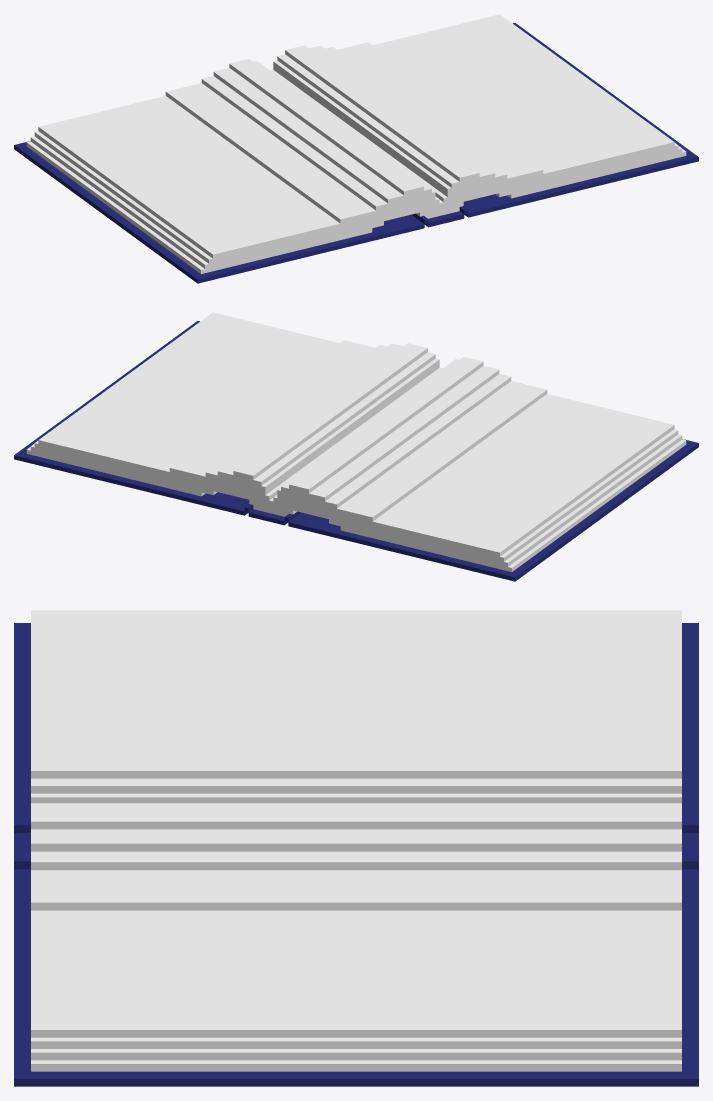
The model's file is Book1-2.fbx.
3 views of the same model, one above another, from view 1: azimuth 30°, elevation 25°; view 2: azimuth 150°, elevation 25°; view 3: azimuth 270°, elevation 25° (orthographic). The views are drawn at different scales.
Parts seen in each view (by area): view 1: Book1-2; view 2: Book1-2; view 3: Book1-2.
Part boxes in pixels (x1,y1,x2,y2): Book1-2: (14,14,698,283); Book1-2: (14,312,698,581); Book1-2: (14,610,698,1086).
Bounding box in the file's own units: 12.6 × 0.9 × 8.
